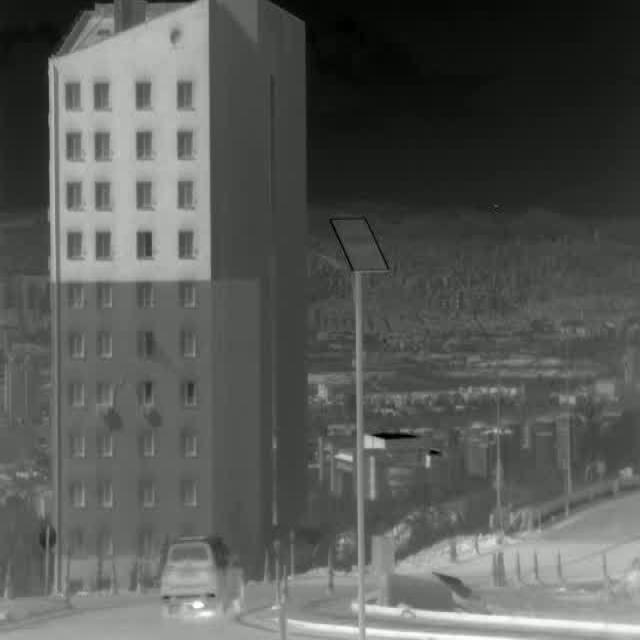Car: (160, 534, 248, 621)
